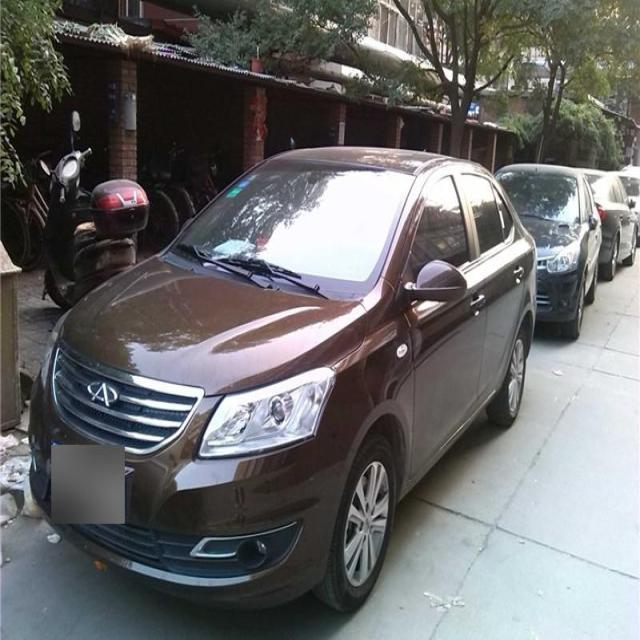door: (463, 174, 523, 397)
front_bumper: (29, 371, 358, 612)
front_glass: (166, 158, 424, 287)
front_left_side_door: (394, 158, 489, 496)
front_left_side_light: (194, 362, 338, 463)
front_left_side_mirror: (402, 257, 469, 305)
front_right_side_light: (39, 328, 59, 391)
wheel: (307, 428, 398, 613), (484, 329, 527, 430)
